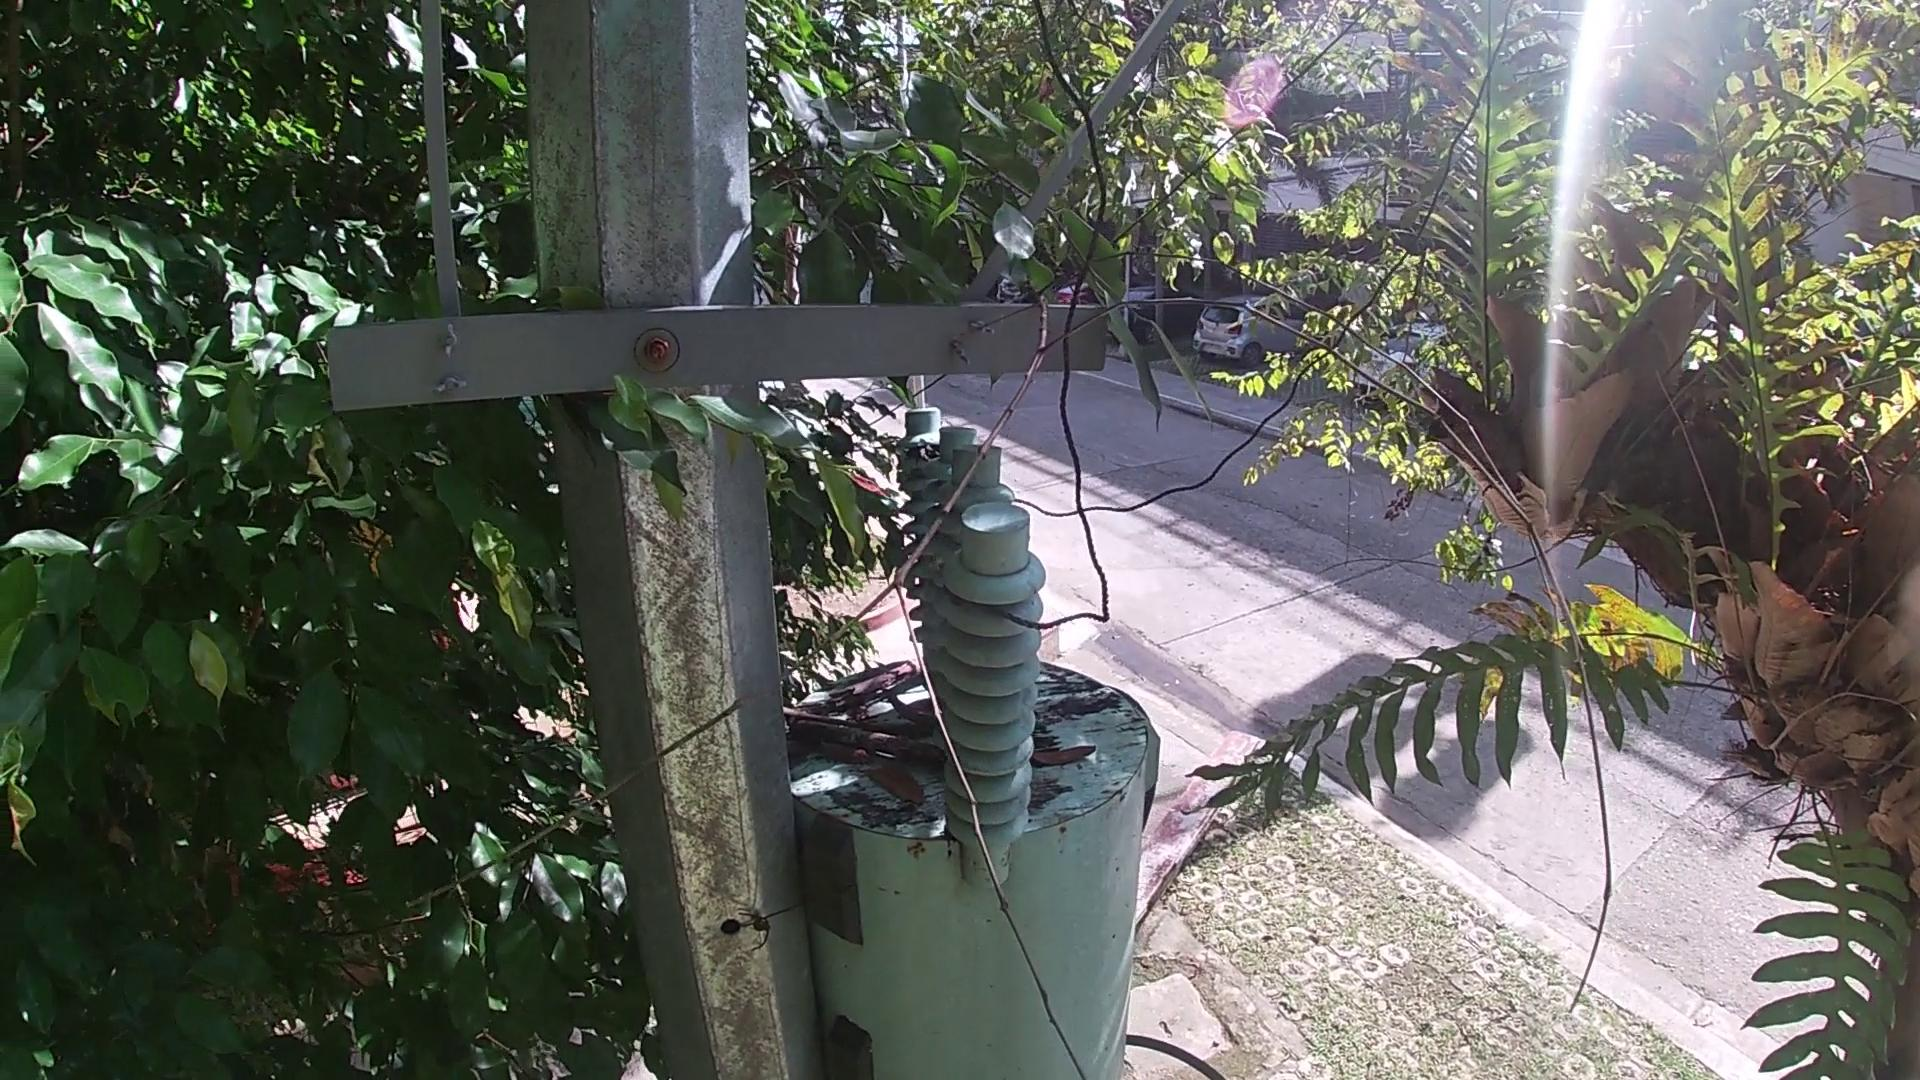leaf: (855, 760, 927, 808), (1030, 742, 1100, 769), (816, 738, 876, 765)
tree branch: (386, 240, 1630, 1077), (781, 711, 949, 771), (825, 653, 928, 720)
